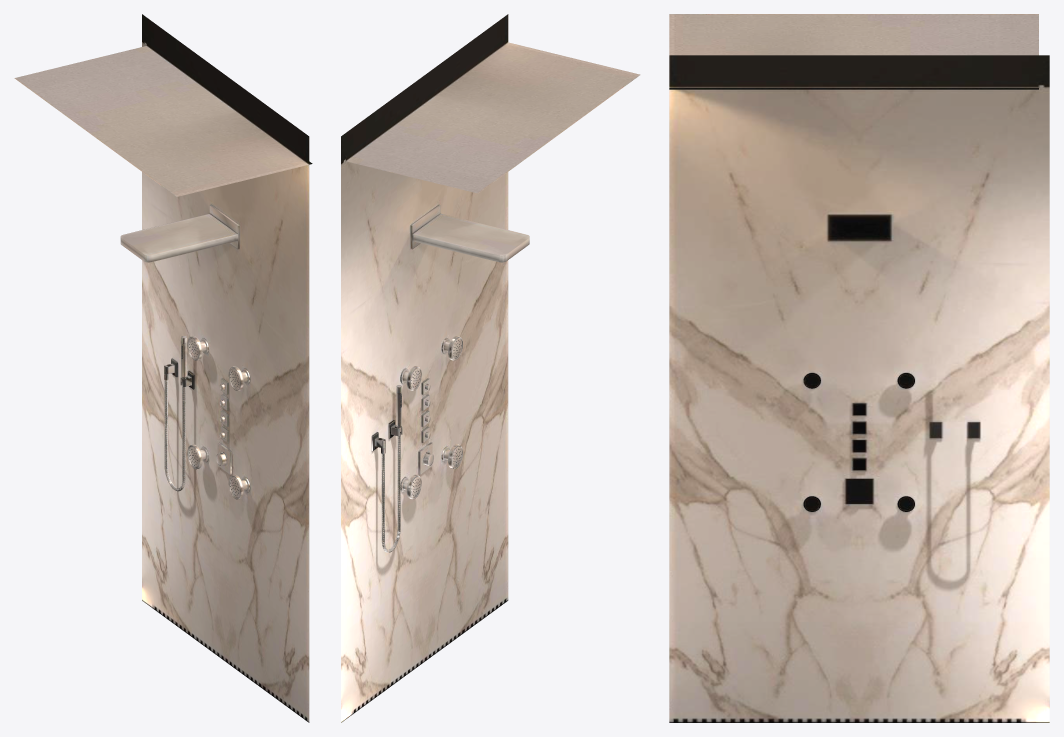
The model's file is Body_Cascade_Shower_Final.glb.
The picture shows the model from 3 angles, left to right: view 1: azimuth 30°, elevation 25°; view 2: azimuth 150°, elevation 25°; view 3: azimuth 270°, elevation 25°; orthographic projection. The views are drawn at different scales.
Parts seen in each view (by area): view 1: Body_Cascade_Shower_Final; view 2: Body_Cascade_Shower_Final; view 3: Body_Cascade_Shower_Final.
Part boxes in pixels (left/top/right/bottom): Body_Cascade_Shower_Final: left=14, top=14, right=312, bottom=722; Body_Cascade_Shower_Final: left=341, top=14, right=640, bottom=722; Body_Cascade_Shower_Final: left=669, top=14, right=1049, bottom=722.
Size of the model in its own units: 0.7526 by 3.1 by 1.6.
Materials: 1 (1 with a texture image).
